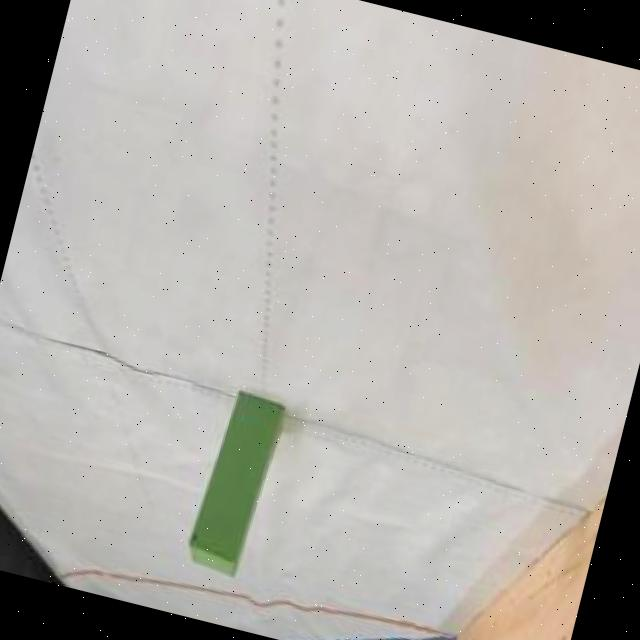greenbox: (188, 391, 286, 570)
